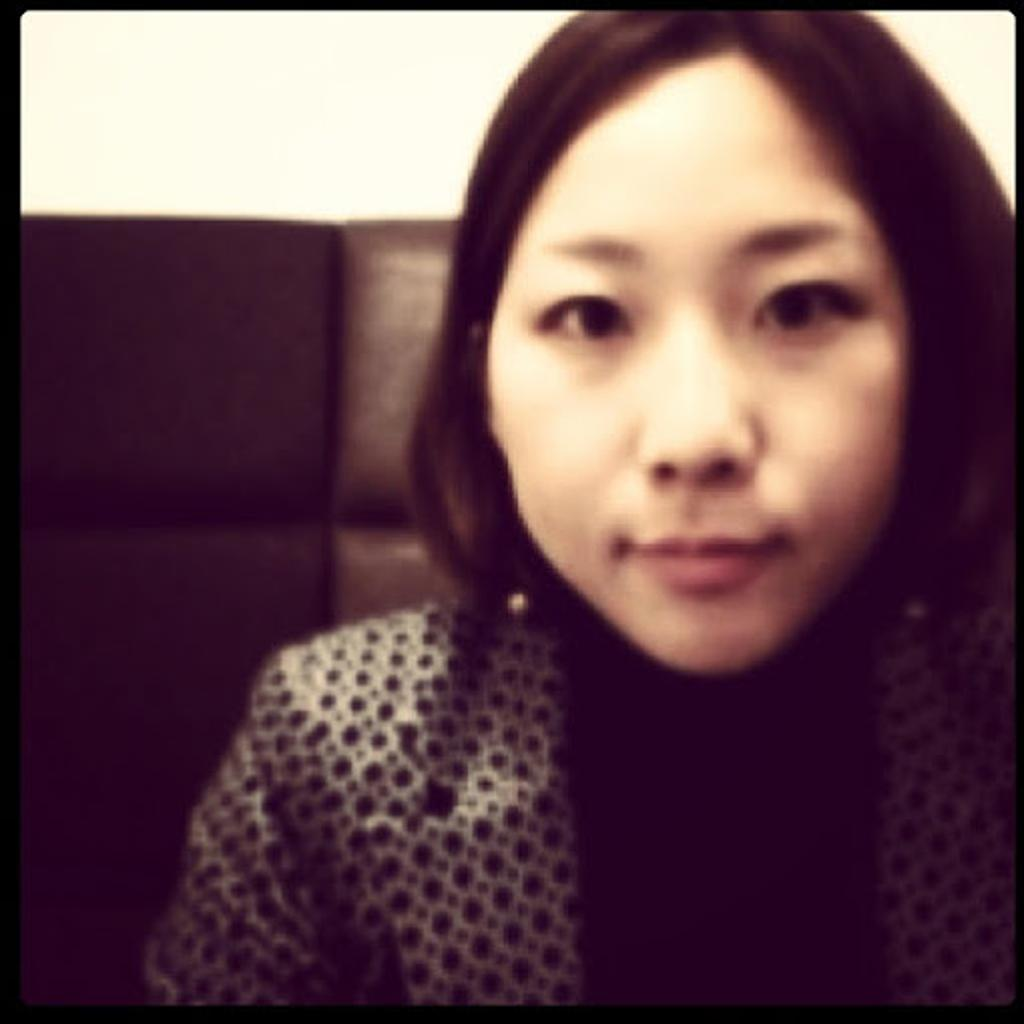face: (488, 52, 912, 674)
